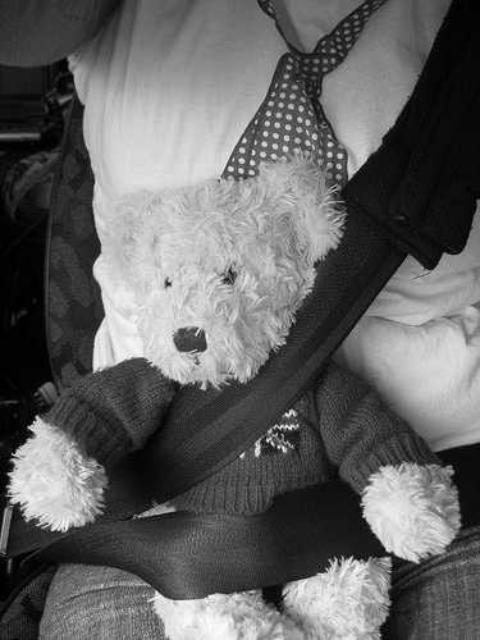Seatbelt: (0, 0, 480, 604)
